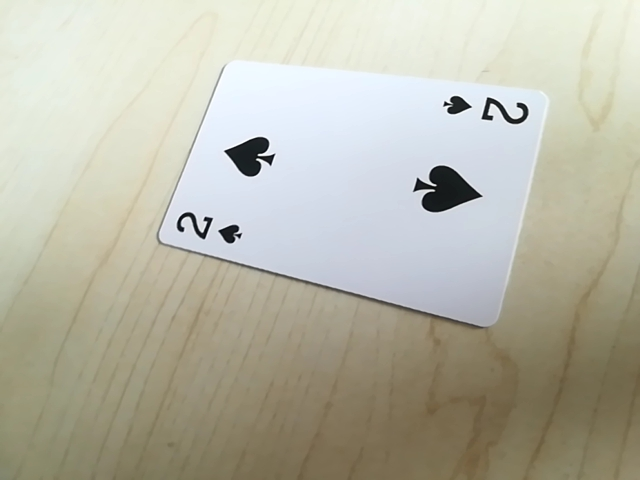ht 2: (437, 88, 534, 131), (168, 203, 250, 250)
